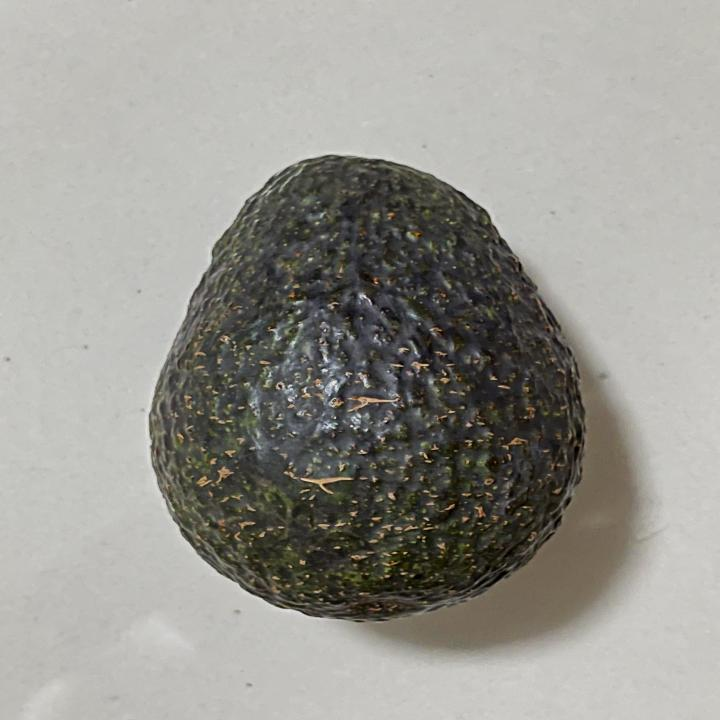Level1: (138, 136, 598, 632)
